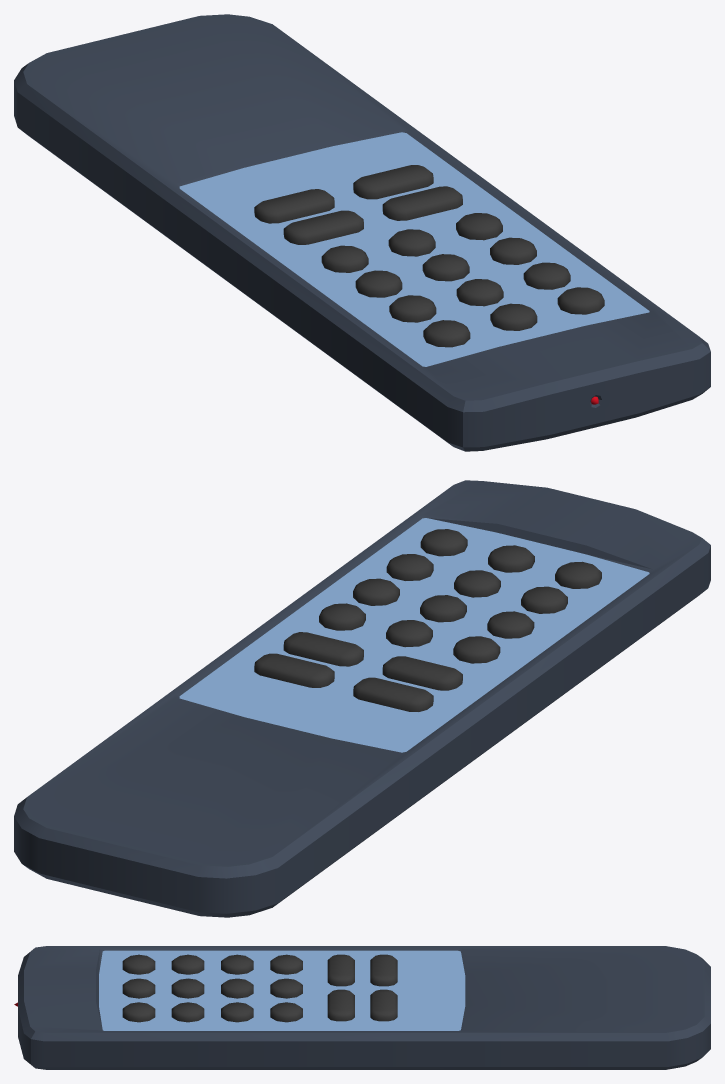
The model's file is Remote01.FBX.
The picture shows the model from 3 angles, top to bottom: view 1: azimuth 30°, elevation 25°; view 2: azimuth 150°, elevation 25°; view 3: azimuth 270°, elevation 25°; orthographic projection. The views are drawn at different scales.
Visible parts, largest first — view 1: Remote01; view 2: Remote01; view 3: Remote01.
Boxes of the visible parts, x1,y1,x2,y2 form: Remote01: [14, 14, 710, 451]; Remote01: [14, 480, 710, 917]; Remote01: [14, 946, 710, 1069].
Bounding box in the file's own units: 7 × 22.35 × 1.74.
